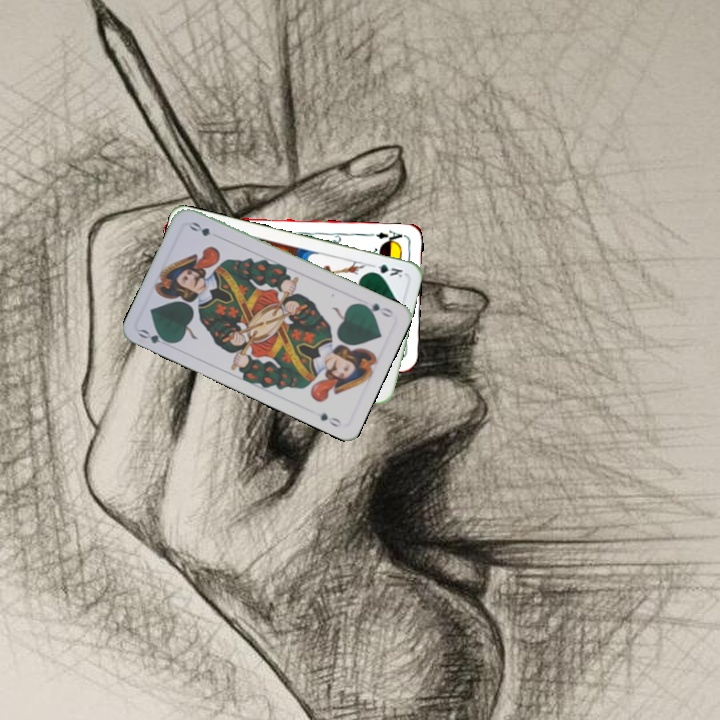EA: (372, 226, 407, 246)
GK: (365, 260, 405, 280)
GO: (134, 325, 175, 350), (356, 299, 396, 320)
